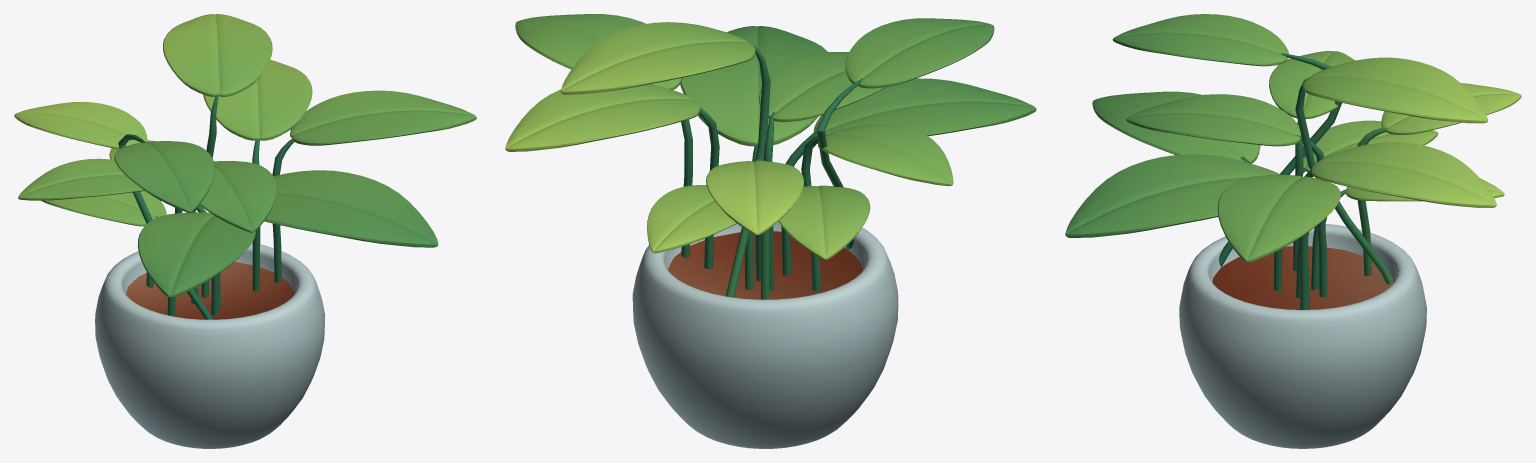
Rendered from Pot.fbx.
The picture shows the model from 3 angles, left to right: view 1: azimuth 30°, elevation 25°; view 2: azimuth 150°, elevation 25°; view 3: azimuth 270°, elevation 25°; orthographic projection. The views are drawn at different scales.
Visible parts, largest first — view 1: Cylinder.111; view 2: Cylinder.111; view 3: Cylinder.111.
Part boxes in pixels (x1,y1,x2,y2): Cylinder.111: (14,14,476,448); Cylinder.111: (505,14,1036,448); Cylinder.111: (1065,14,1521,448).
Bounding box in the file's own units: 270 × 211 × 238.
